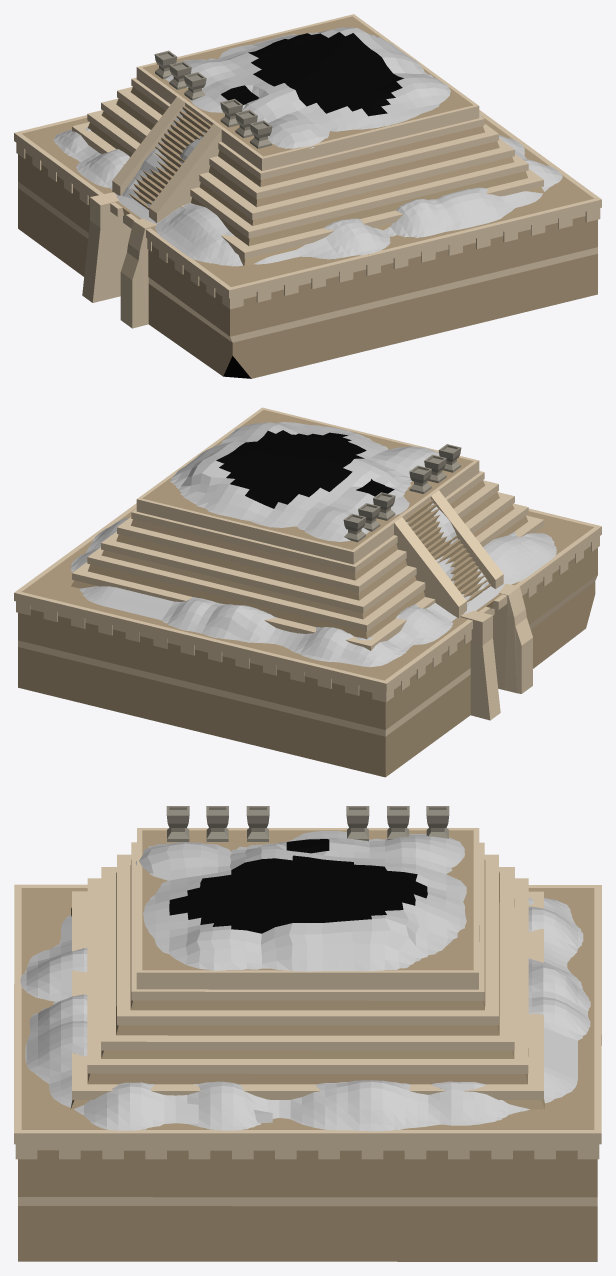
Rendered from LightSandStoneBuildingLargeCrackedWheatheredTemple1.fbx.
3 renders of one model, top to bottom at view 1: azimuth 30°, elevation 25°; view 2: azimuth 150°, elevation 25°; view 3: azimuth 270°, elevation 25°, orthographic. The views are drawn at different scales.
Visible parts, largest first — view 1: Base1_Base.Grass; view 2: Base1_Base.Grass; view 3: Base1_Base.Grass.
Boxes of the visible parts, x1,y1,x2,y2 form: Base1_Base.Grass: (14,14,601,378); Base1_Base.Grass: (14,407,601,777); Base1_Base.Grass: (14,806,601,1261).
Size of the model in its own units: 5583 by 2667 by 5332.
